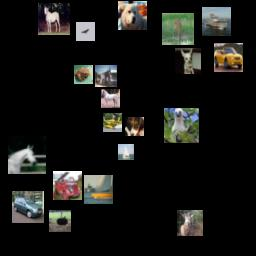airplane: (103, 113, 122, 132)
automobile: (12, 191, 44, 223), (214, 43, 243, 72)
bird: (164, 108, 199, 143), (49, 210, 71, 232), (76, 22, 95, 41)
deer: (162, 13, 194, 45), (177, 210, 203, 236)
dog: (118, 1, 147, 30), (175, 48, 201, 74), (125, 117, 144, 136)
frog: (74, 65, 93, 84)
ship: (202, 7, 231, 36), (84, 175, 113, 204), (118, 144, 134, 160)
truck: (53, 171, 82, 200), (95, 65, 117, 87)
